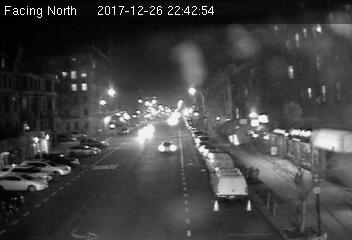car: (158, 138, 177, 155)
truck: (210, 164, 248, 198)
